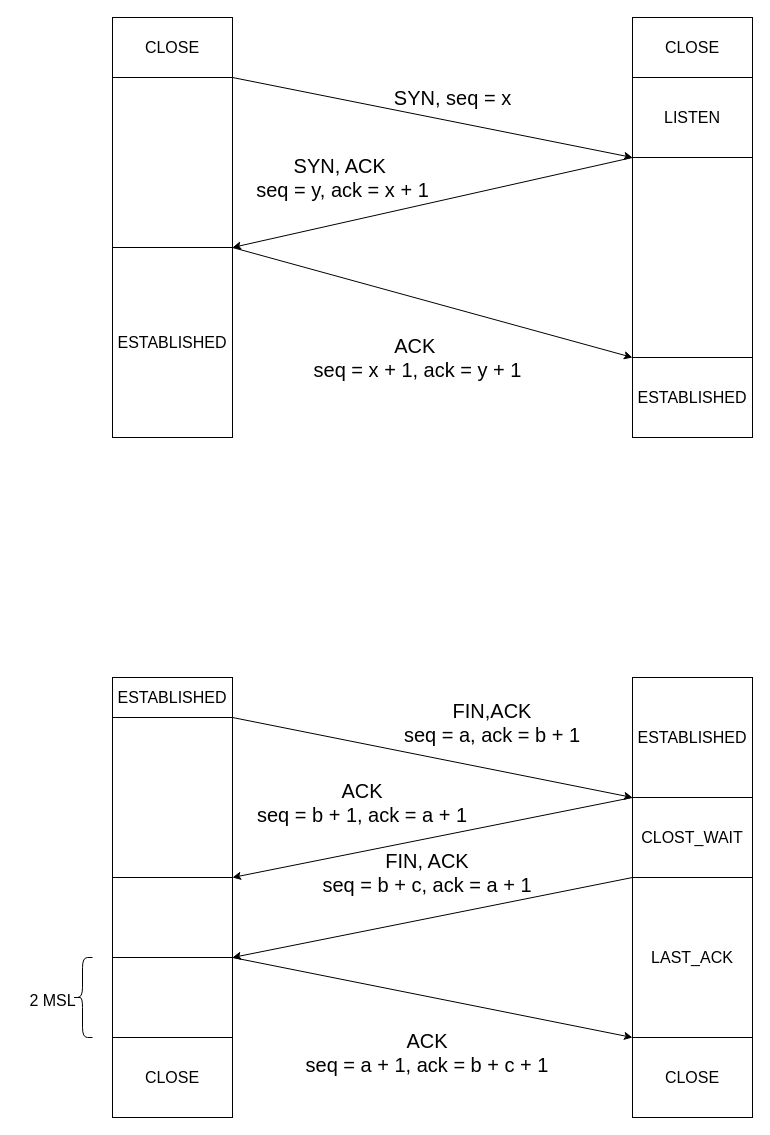
Image size: 770x1135. Some labels were removed from this diagram. The shapes that lost their labels are listed below. From the top down, each one's centre as x and y in pixels, then its label:
the point at 172,162: SYN_SENT
the point at 692,257: SYN_RCVD
the point at 172,797: FIN_WAIT1
the point at 172,917: FIN_WAIT2
the point at 172,997: TIME_WAIT
